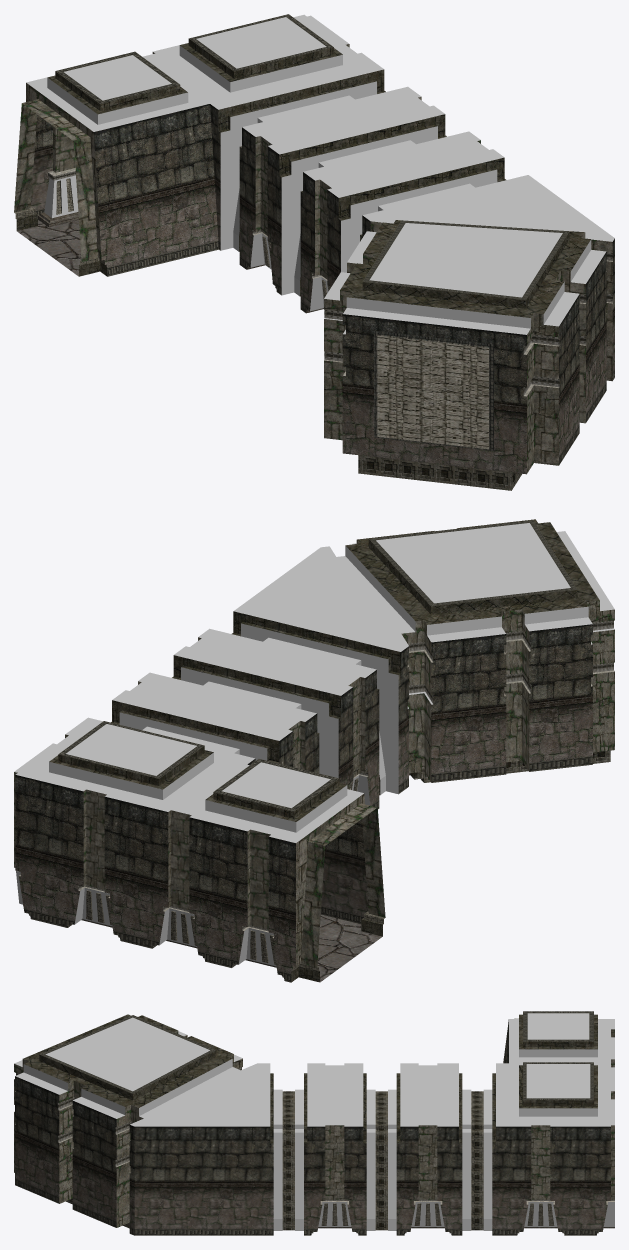
Rendered from thm_yavn_temple_exar_kun_r12_mesh_r12.fbx.
3 renders of one model, top to bottom at view 1: azimuth 30°, elevation 25°; view 2: azimuth 150°, elevation 25°; view 3: azimuth 270°, elevation 25°, orthographic. The views are drawn at different scales.
Visible parts, largest first — view 1: mesh_node; view 2: mesh_node; view 3: mesh_node.
Part boxes in pixels (<box>): mesh_node: <box>14,14,614,490</box>; mesh_node: <box>14,519,614,982</box>; mesh_node: <box>14,1011,614,1235</box>.
Bounding box in the file's own units: 9 × 5.09 × 20.02.
